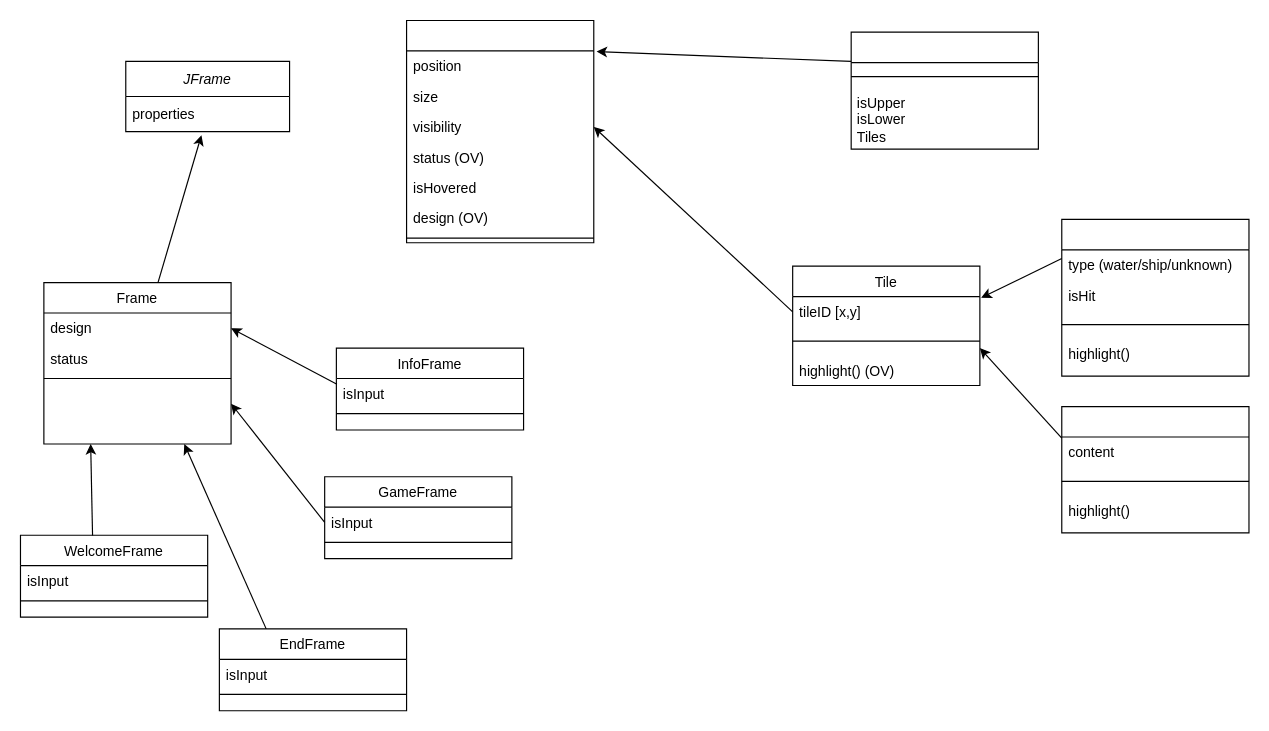
Some shapes in this 1269 by 731 pixel diagram are drawn without their labels. Here are the shapes that lost their labels. From the top down, the box of each, then its label:
(850, 31, 1038, 149): Field
(405, 19, 594, 243): JComponent
(1061, 218, 1249, 376): GameTile
(1061, 405, 1249, 533): LegendTile
